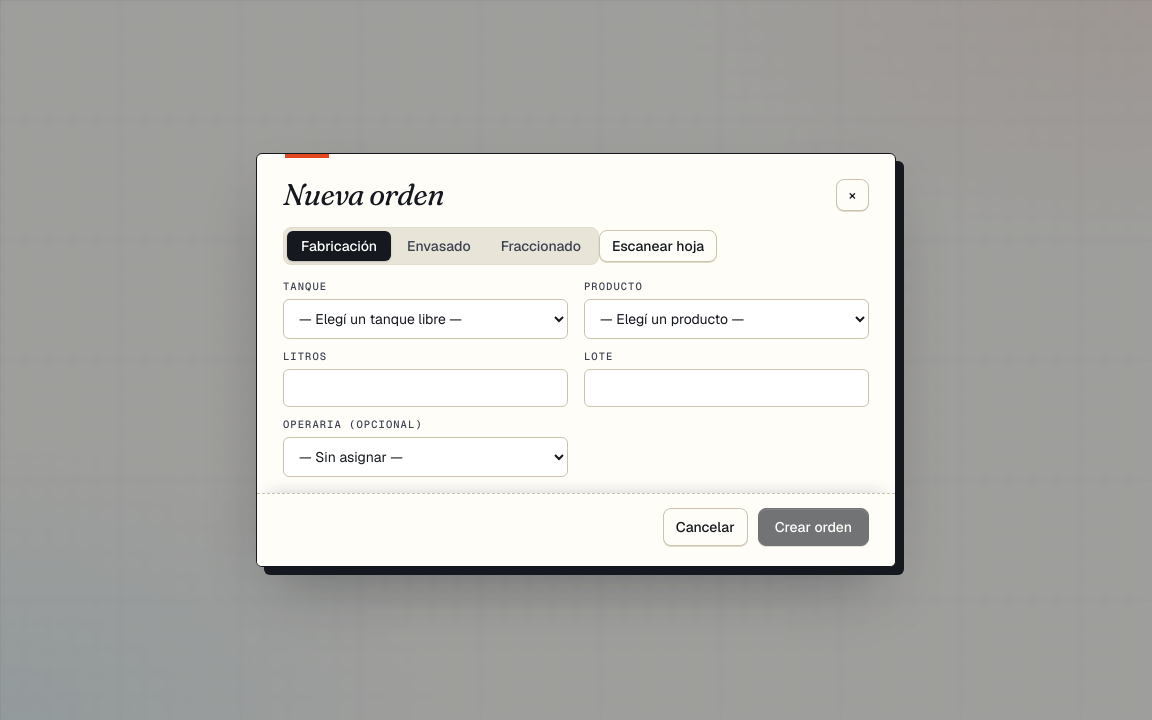
Test: NuevaOrden · proyección › muestra el tiempo estimado con la velocidad histórica
Select "T-01 · 2000 L" in the dropdown labelled "Tanque" at (426, 319), box x1=283 y1=299 x2=568 y2=339
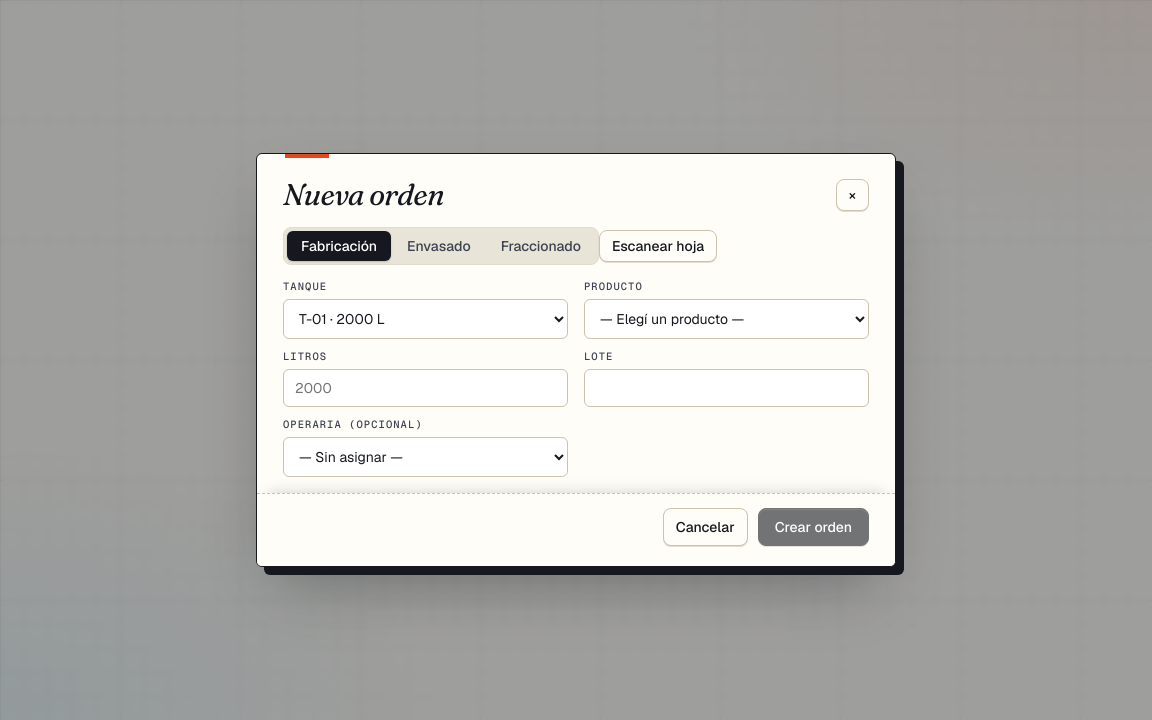
Select "Lavandina" in the dropdown labelled "Producto" at (726, 319), box x1=584 y1=299 x2=869 y2=339
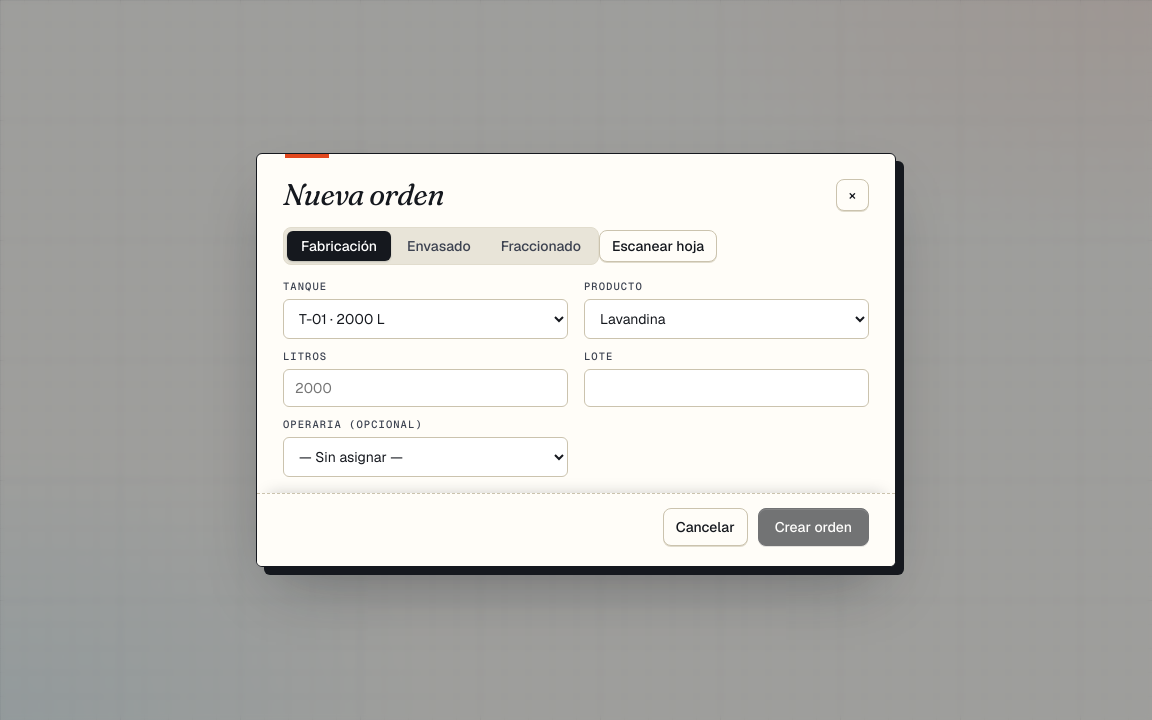
Type "600" into the number field labelled "Litros" at (426, 388), box x1=283 y1=369 x2=568 y2=407
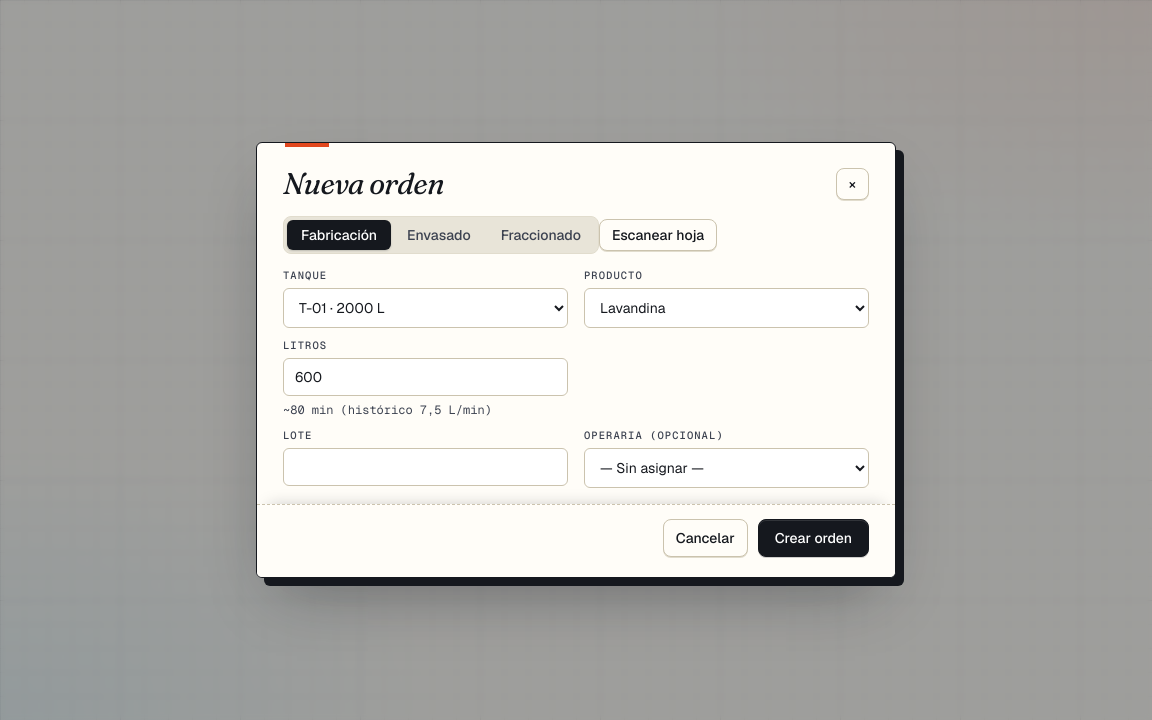
Expected: the text "~80 min (histórico 7,5 L/min)" is shown, x1=283 y1=402 x2=492 y2=418
